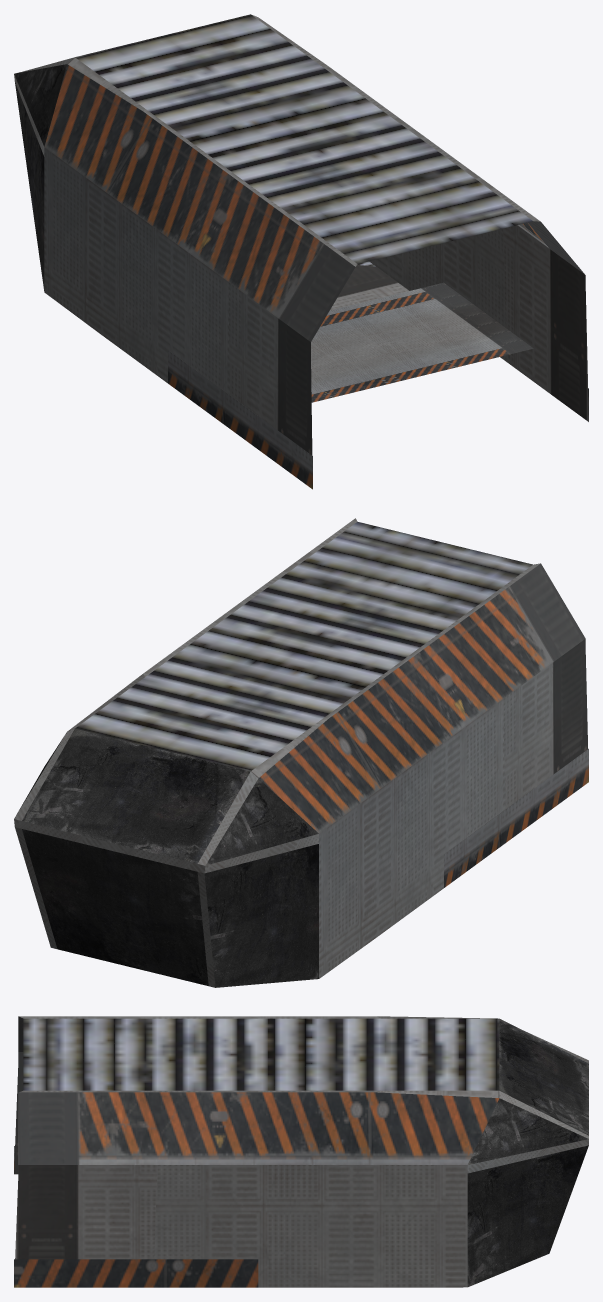
Rendered from reroute_ship.fbx.
The picture shows the model from 3 angles, top to bottom: view 1: azimuth 30°, elevation 25°; view 2: azimuth 150°, elevation 25°; view 3: azimuth 270°, elevation 25°; orthographic projection. The views are drawn at different scales.
Visible parts, largest first — view 1: Plane; view 2: Plane; view 3: Plane.
Boxes of the visible parts, x1=… form: Plane: x1=14, y1=14, x2=588, y2=489; Plane: x1=14, y1=518, x2=588, y2=987; Plane: x1=14, y1=1016, x2=588, y2=1287.
Size of the model in its own units: 1421 by 1031 by 3042.
